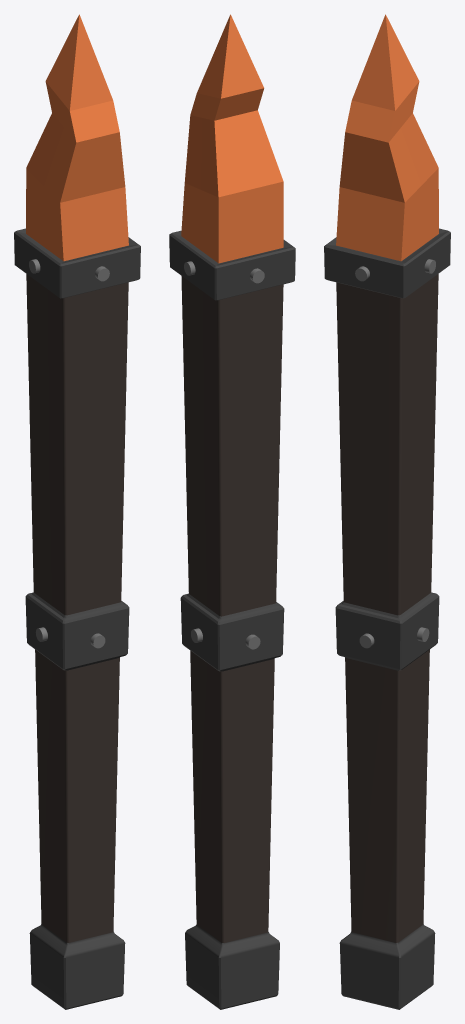
File: torch.fbx
3 renders of one model, left to right at view 1: azimuth 30°, elevation 25°; view 2: azimuth 210°, elevation 25°; view 3: azimuth 330°, elevation 25°, orthographic.
Visible parts, largest first — view 1: pCube1; view 2: pCube1; view 3: pCube1.
Boxes of the visible parts, bbox=[...] form: pCube1: bbox=[14, 14, 140, 1009]; pCube1: bbox=[169, 14, 295, 1009]; pCube1: bbox=[324, 14, 450, 1009].
Bounding box in the file's own units: 0.1162 × 1.2 × 0.1176.
